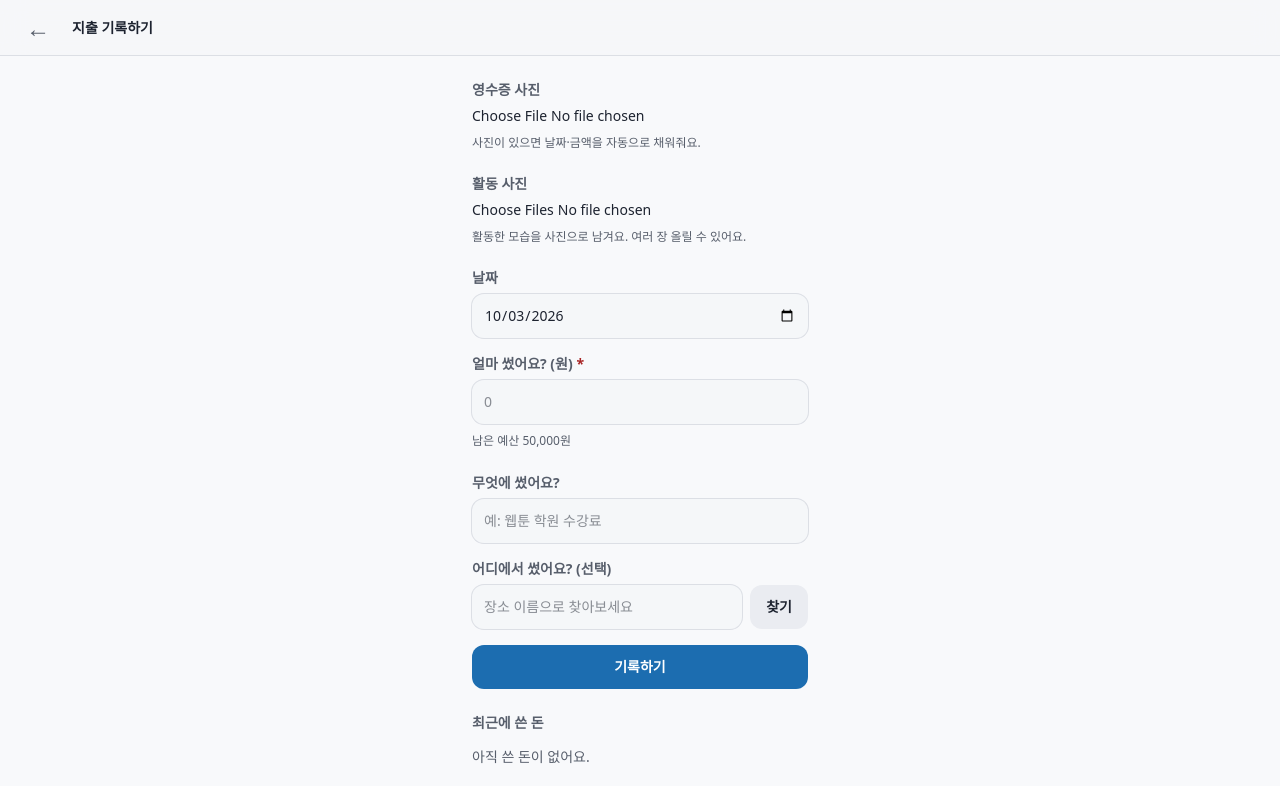
it: ReceiptClient — 지출 기록 성공 안내(당사자) P2 a11y › 성공하면 전에 떠 있던 오류는 지운다
Type "5000" into the number field labelled "얼마 썼어요? (원) *". click: (640, 402)
box: [472,380,808,424]
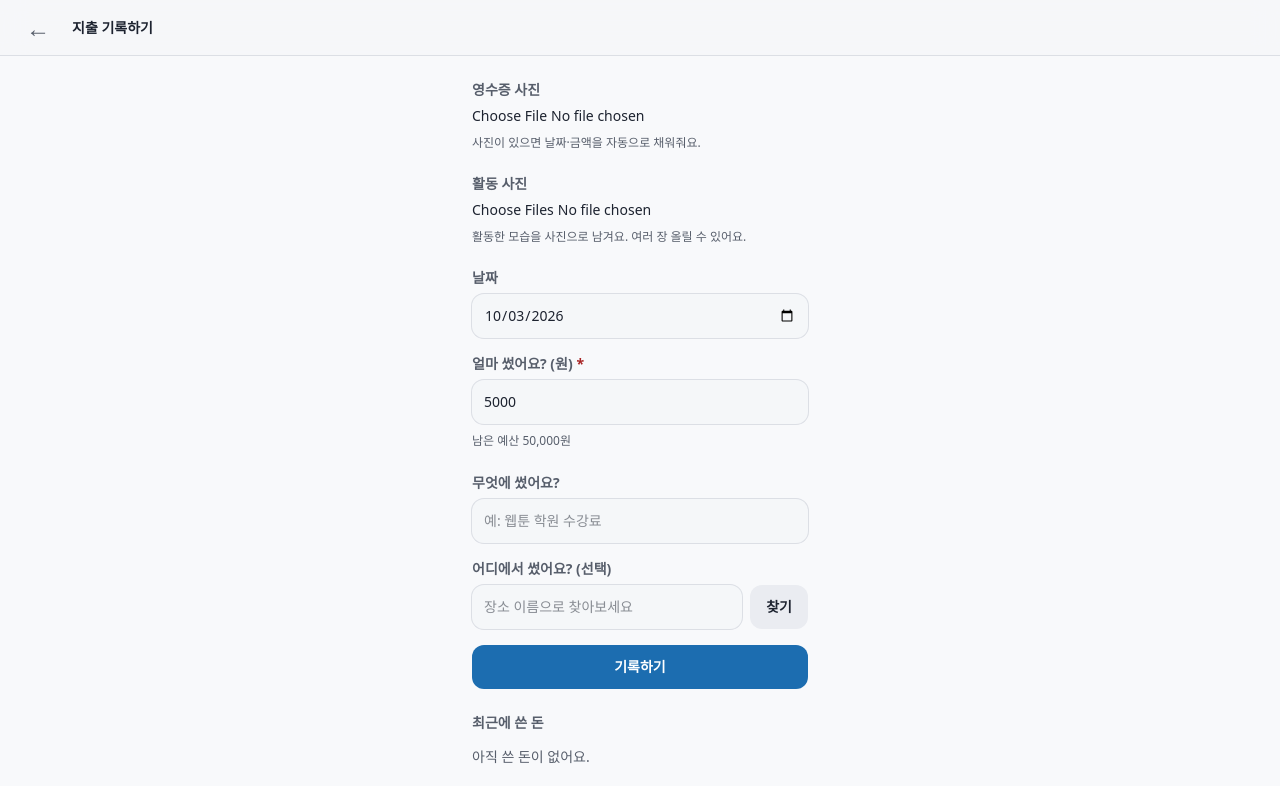
Expected: the button "기록하기" is enabled, [472,645,808,689]
Submit the form named "기록하기", box [472,80,808,689]
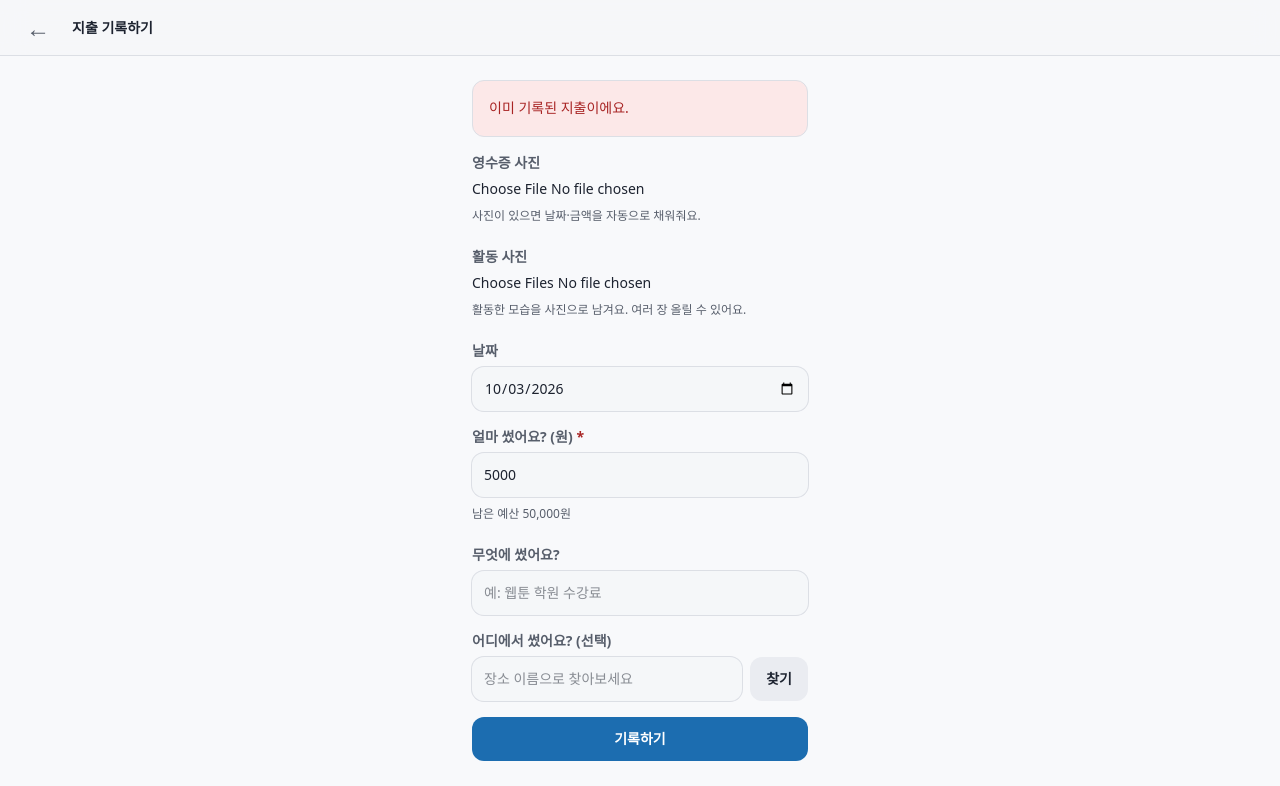
Expected: the button "기록하기" is enabled, [472,717,808,761]
Expected: the text "이미 기록된 지출이에요." is shown, [472,80,808,137]
Submit the form named "기록하기", box [472,80,808,761]
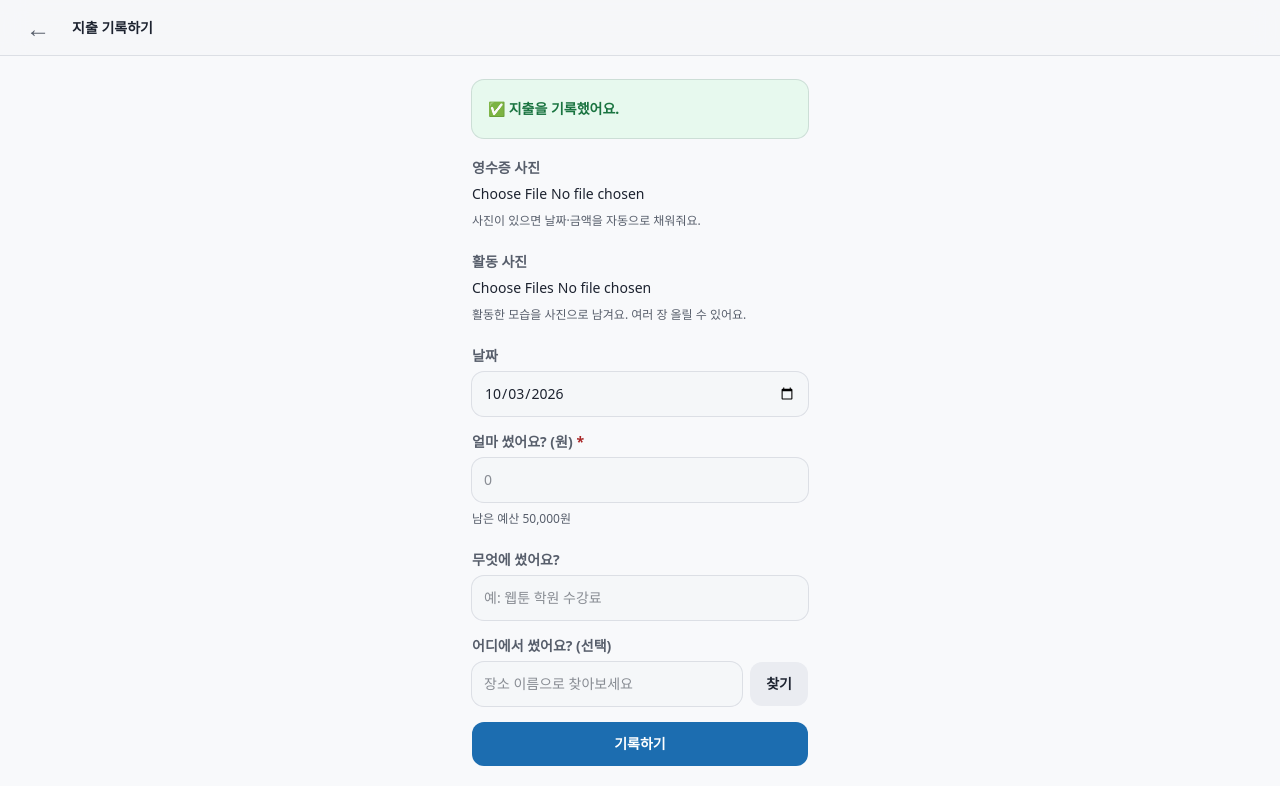
Expected: the text "지출을 기록했어요." is shown, [509,99,619,118]
